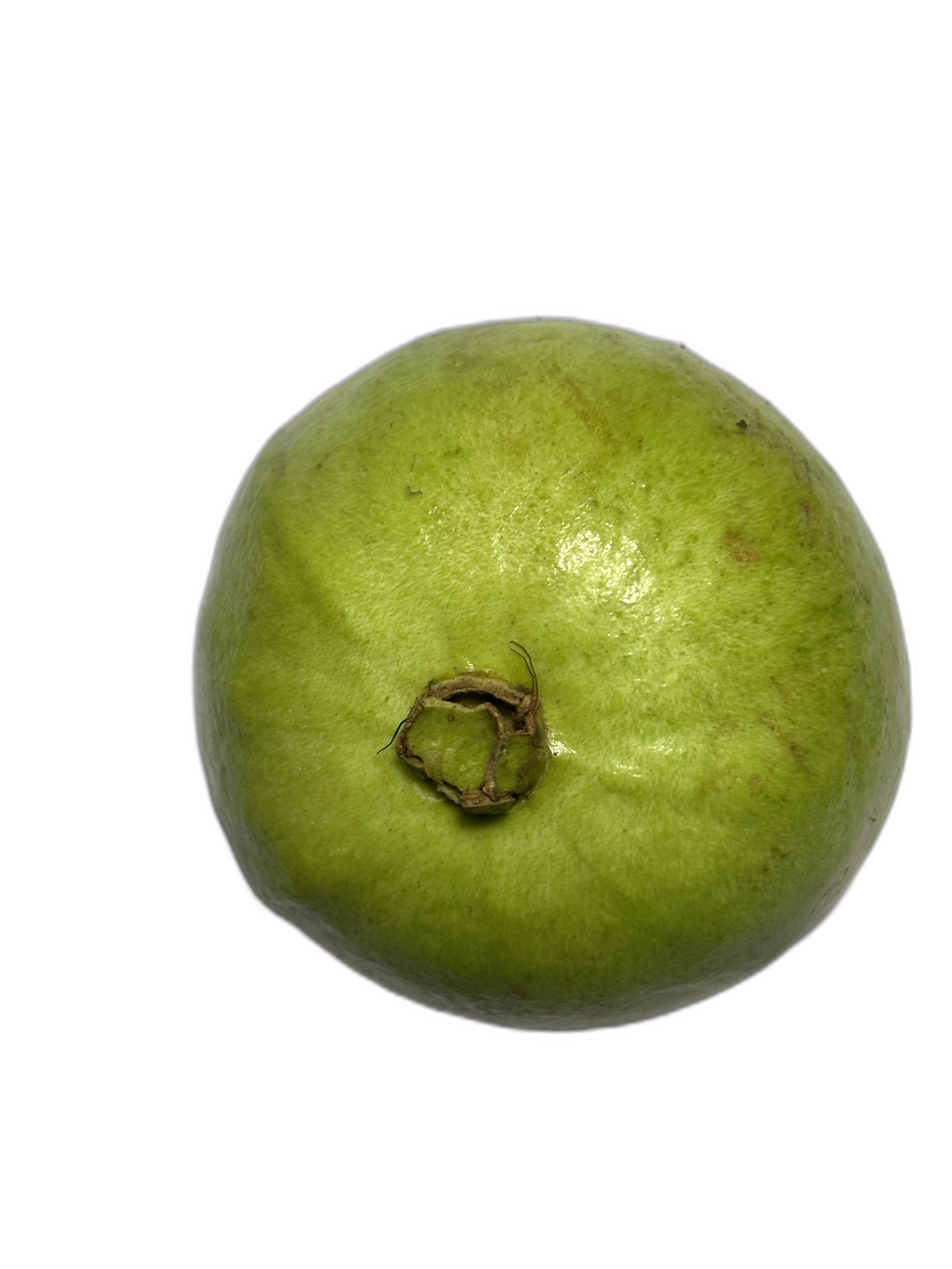guava: (200, 141, 802, 1193)
